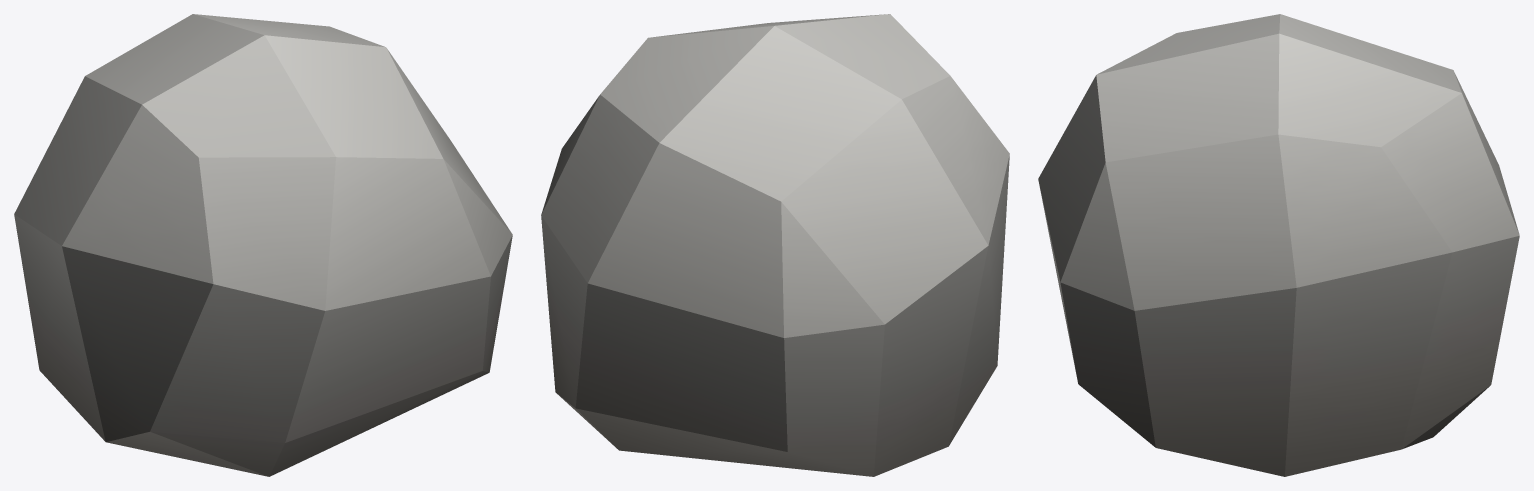
The model's file is Rock_Boulder_A.fbx.
The picture shows the model from 3 angles, left to right: view 1: azimuth 30°, elevation 25°; view 2: azimuth 150°, elevation 25°; view 3: azimuth 270°, elevation 25°; orthographic projection. The views are drawn at different scales.
Visible parts, largest first — view 1: Rock_Boulder_A; view 2: Rock_Boulder_A; view 3: Rock_Boulder_A.
Boxes of the visible parts, x1,y1,x2,y2 form: Rock_Boulder_A: (14, 14, 512, 476); Rock_Boulder_A: (541, 14, 1009, 476); Rock_Boulder_A: (1038, 14, 1519, 476).
Size of the model in its own units: 327 by 342 by 333.
Materials: 1 (1 with a texture image).
